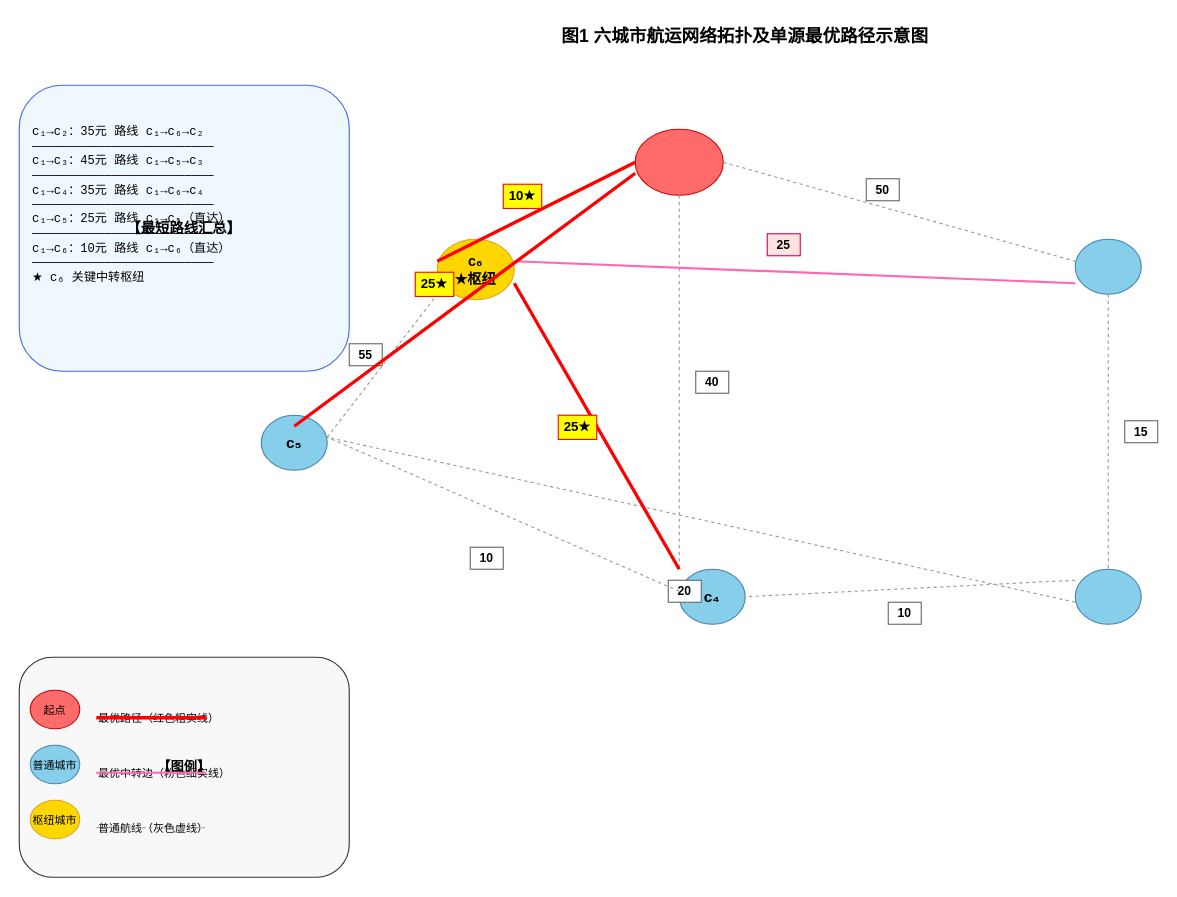
This 1177x897 diagram has some shape labels left out. Here are the shapes that lost their labels. From the top down, the centre of each, then its label:
At point (678, 161): "c₁ (起点)".
At point (1107, 266): "c₂".
At point (1107, 596): "c₃".
